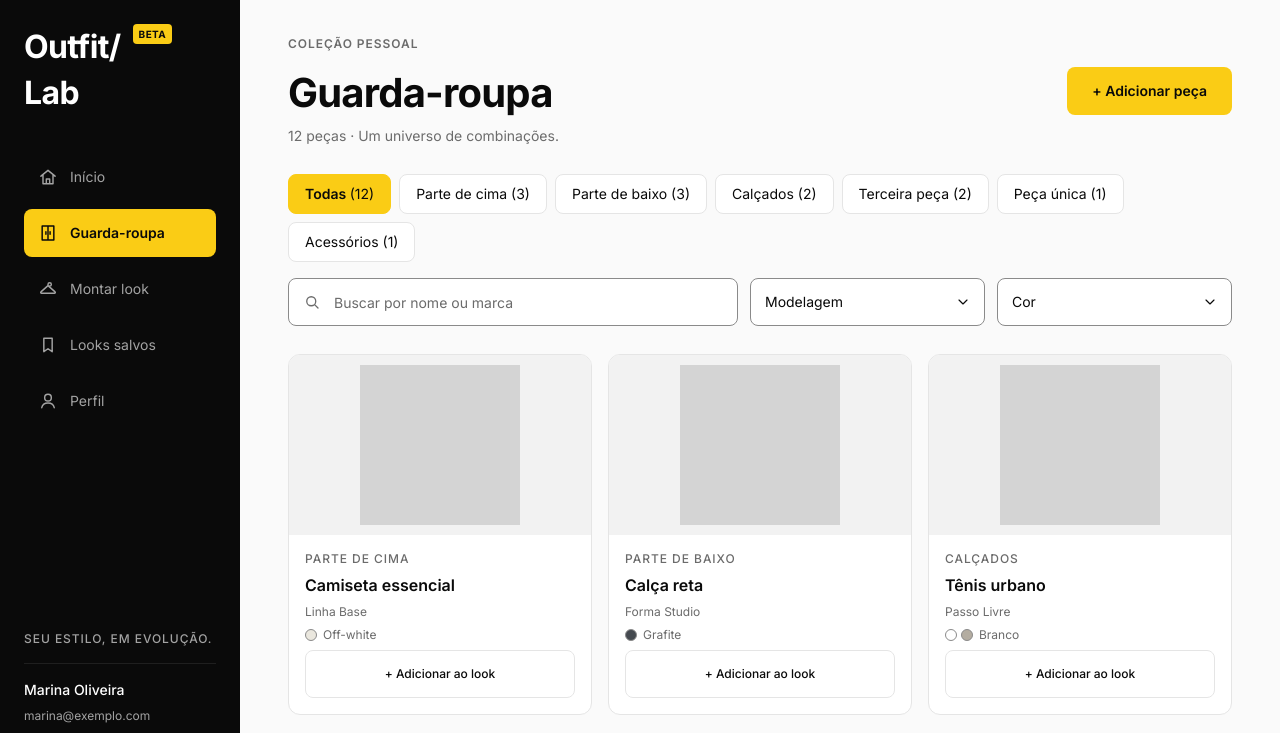
Scenario: TELA-03 Guarda-roupa › busca sem resultado mostra a mensagem, mantém os filtros e permite limpar
The width and height of the screenshot is (1280, 733).
Type "xyz" into the search field named "Buscar peça" at (513, 302), box [288,278,738,326]
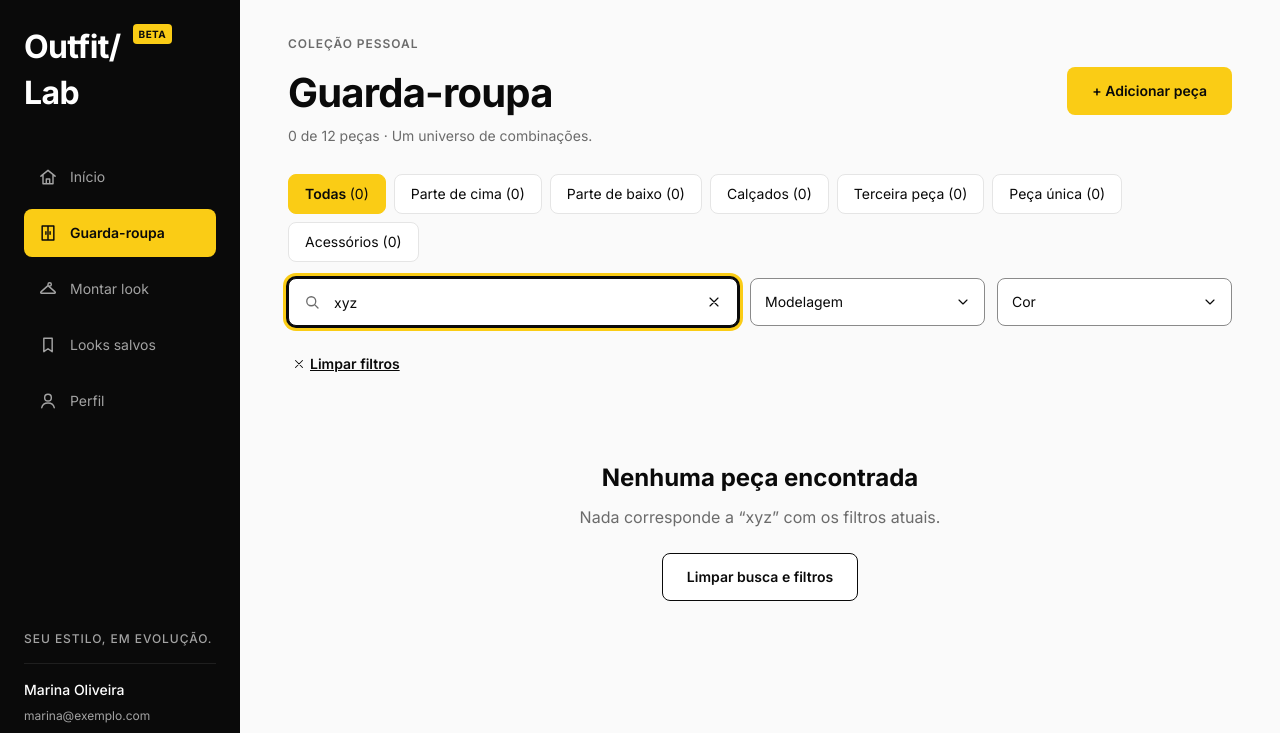
Expected: the heading "Nenhuma peça encontrada" is shown, [602,462,918,494]
Expected: the text "Nada corresponde a “xyz” com os filtros atuais." is shown, [580,506,940,529]
Click the button "Limpar busca e filtros" at (760, 577), box [662,553,858,601]
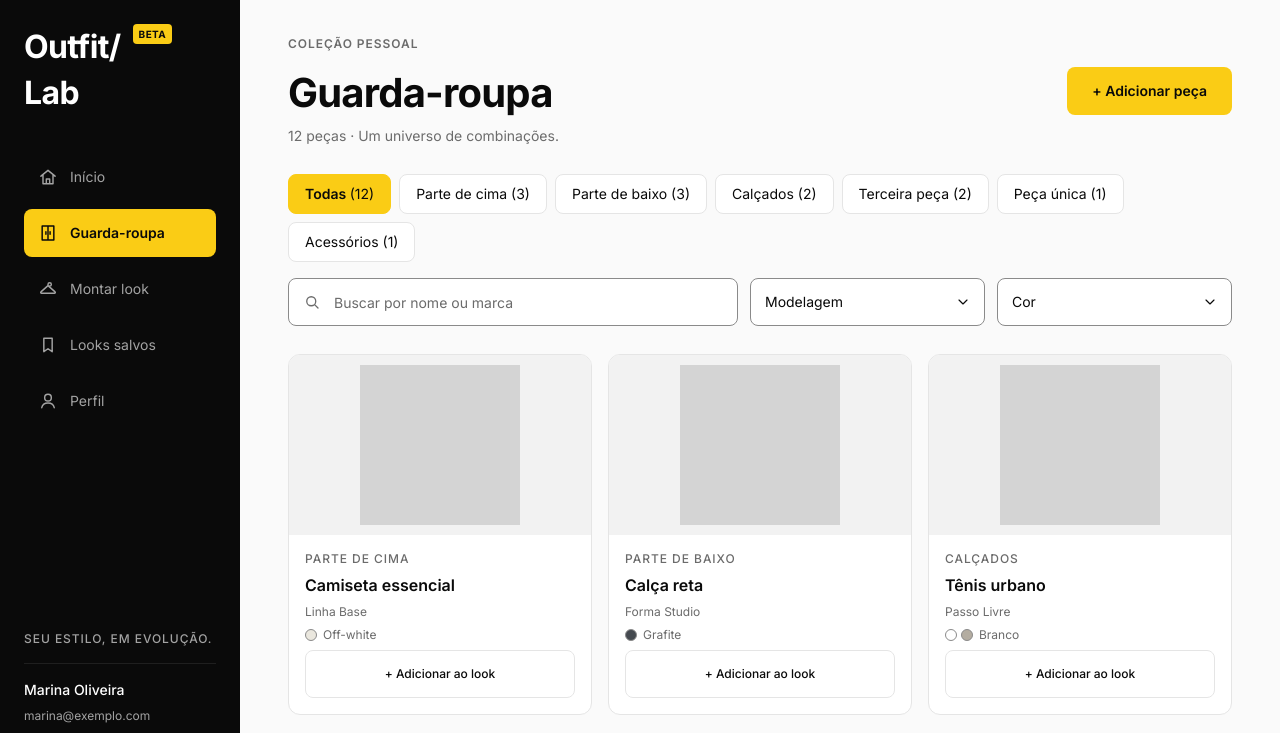
Expected: the search field named "Buscar peça" is empty, [288,278,738,326]
